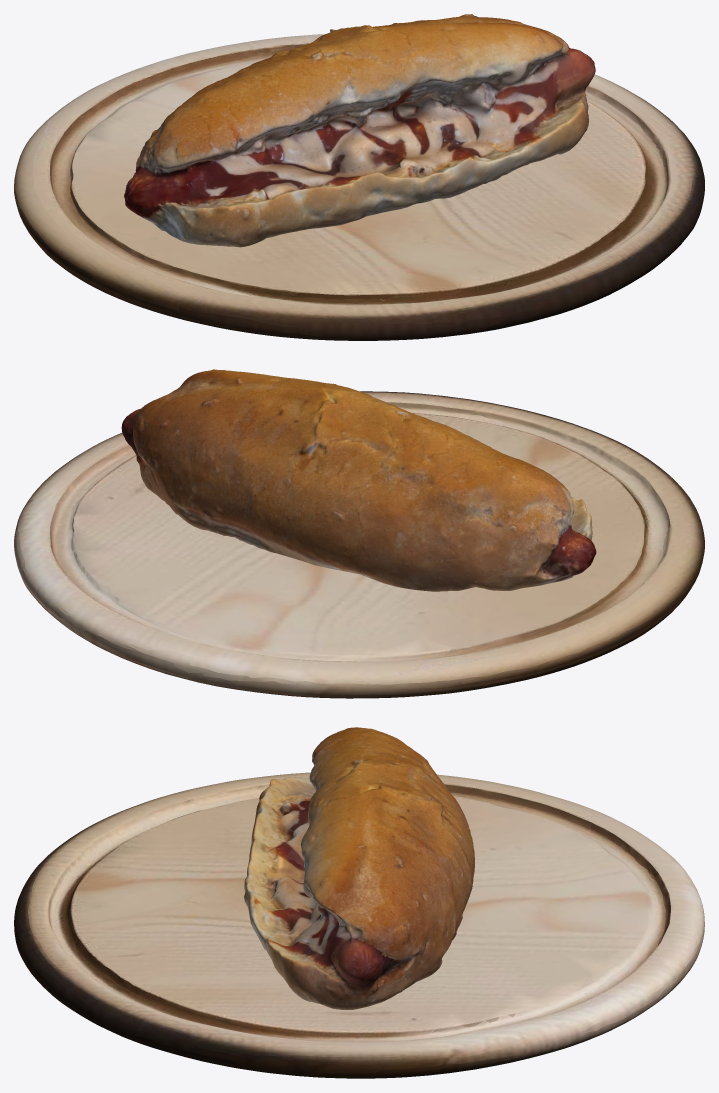
Rendered from hot.dog.classic.glb.
The picture shows the model from 3 angles, top to bottom: view 1: azimuth 30°, elevation 25°; view 2: azimuth 150°, elevation 25°; view 3: azimuth 270°, elevation 25°; orthographic projection.
Parts seen in each view (by area): view 1: Submesh_0.001, 3DModel; view 2: Submesh_0.001, 3DModel; view 3: Submesh_0.001, 3DModel.
Boxes of the visible parts, x1,y1,x2,y2 form: Submesh_0.001: (14, 34, 704, 340); 3DModel: (124, 14, 595, 247); Submesh_0.001: (14, 391, 704, 698); 3DModel: (121, 369, 596, 591); Submesh_0.001: (14, 772, 704, 1078); 3DModel: (244, 727, 474, 1009).
Bounding box in the file's own units: 0.2887 × 0.0755 × 0.2887.
Materials: 2 (2 with a texture image).
